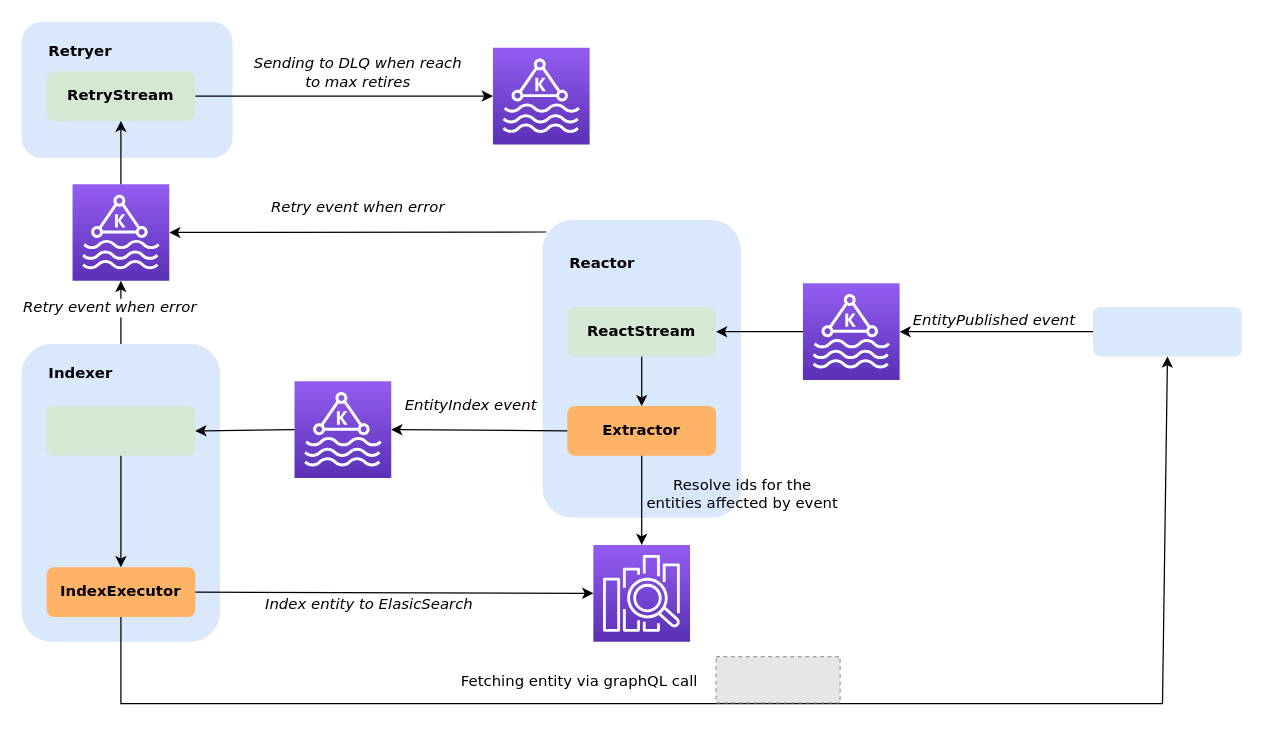
The diagram is 1262 pixels wide and 735 high, and some of its shapes have lost their labels. Grey dashed boxes stand in for pictures. The centre of each missing label's shape, as x and y in pixels:
Entity Store: (x=1166, y=331)
IndexStream: (x=120, y=430)
